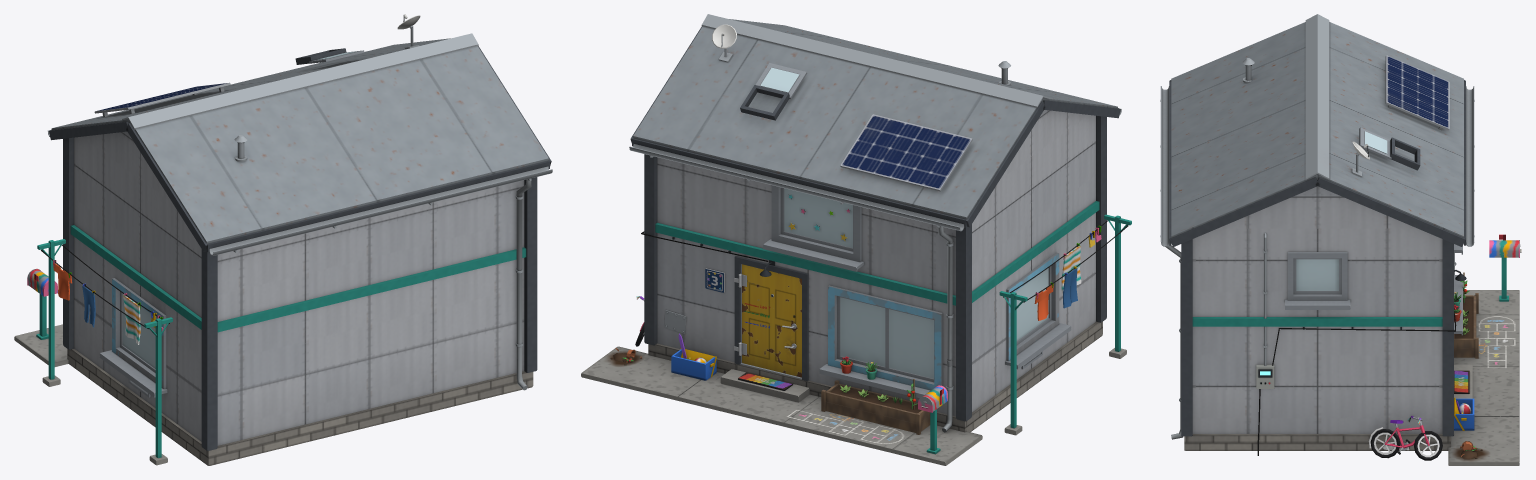
The model's file is casa_familia.fbx.
The picture shows the model from 3 angles, left to right: view 1: azimuth 30°, elevation 25°; view 2: azimuth 150°, elevation 25°; view 3: azimuth 270°, elevation 25°; orthographic projection. The views are drawn at different scales.
Parts seen in each view (by area): view 1: casa_familia, casa_familia_Cristal; view 2: casa_familia, casa_familia_Cristal, casa_familia_Puerta; view 3: casa_familia, casa_familia_Cristal.
Boxes of the visible parts, left/top/right/bottom form: casa_familia: left=14, top=14, right=552, bottom=465; casa_familia_Cristal: left=122, top=51, right=356, bottom=368; casa_familia: left=581, top=14, right=1131, bottom=465; casa_familia_Cristal: left=760, top=67, right=1048, bottom=378; casa_familia_Puerta: left=738, top=264, right=801, bottom=377; casa_familia: left=1160, top=14, right=1521, bottom=465; casa_familia_Cristal: left=1296, top=131, right=1387, bottom=290.
Bounding box in the file's own units: 12.62 × 9.37 × 10.36.
Materials: 1 (1 with a texture image).
